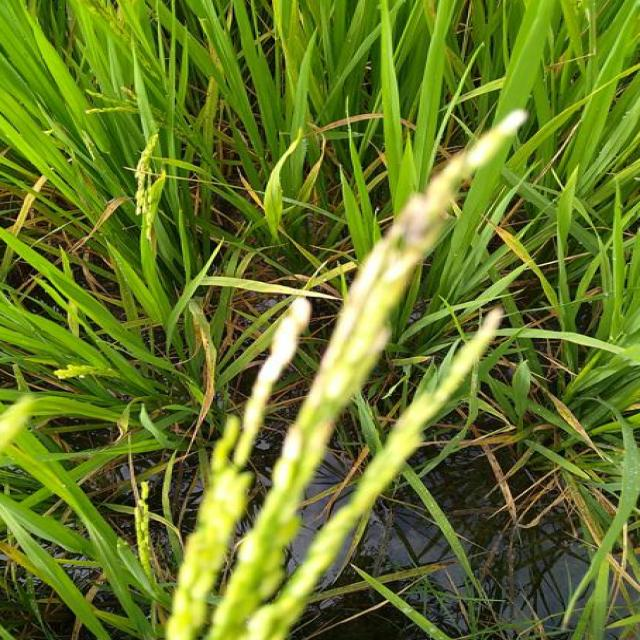Panicle Blight: (389, 111, 526, 252), (244, 300, 310, 420), (478, 308, 502, 340)
